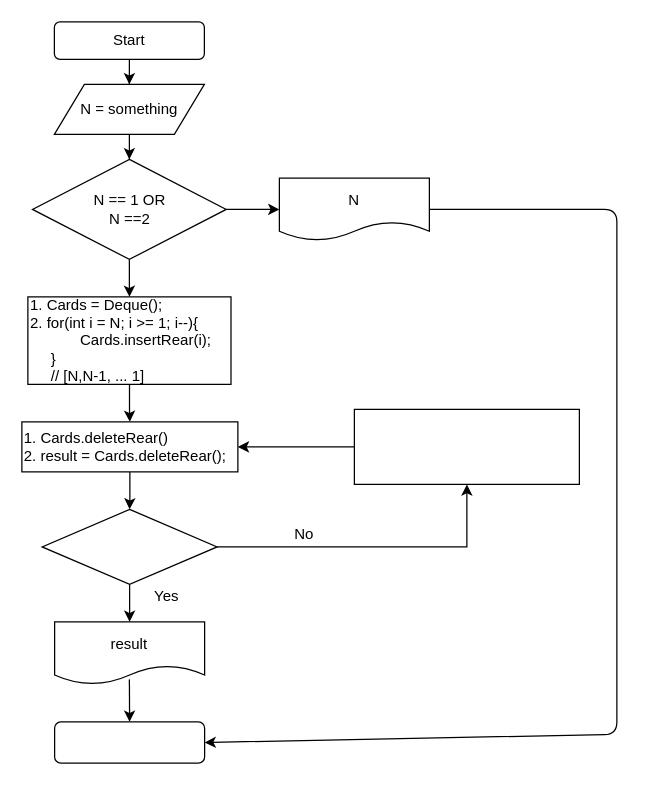
The diagram is 649 pixels wide and 785 high, and some of its shapes have lost their labels. The shapes that lost their labels are listed below. From the top down, each one's box as (x1, y1, x2, y2) in pixels, then its label:
(353, 408, 579, 484): Cards.insertFront(result)
(41, 508, 217, 584): Cards.isEmpty()
(53, 721, 205, 763): End
